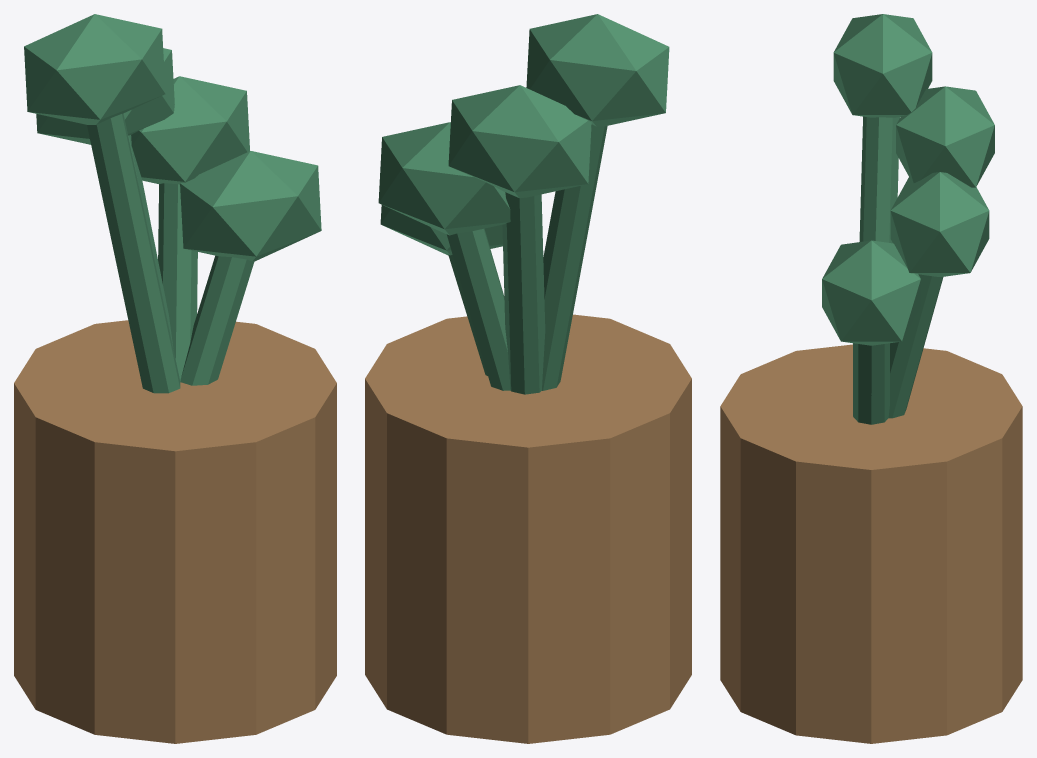
File: set_nursery_pots.glb
The picture shows the model from 3 angles, left to right: view 1: azimuth 30°, elevation 25°; view 2: azimuth 150°, elevation 25°; view 3: azimuth 270°, elevation 25°; orthographic projection. The views are drawn at different scales.
Visible parts, largest first — view 1: set_nursery_pots; view 2: set_nursery_pots; view 3: set_nursery_pots.
Boxes of the visible parts, box(x1,y1,x2,y2) form: set_nursery_pots: box(14, 14, 336, 743); set_nursery_pots: box(365, 14, 691, 743); set_nursery_pots: box(720, 14, 1022, 743).
Bounding box in the file's own units: 0.1323 × 0.3 × 0.13.
